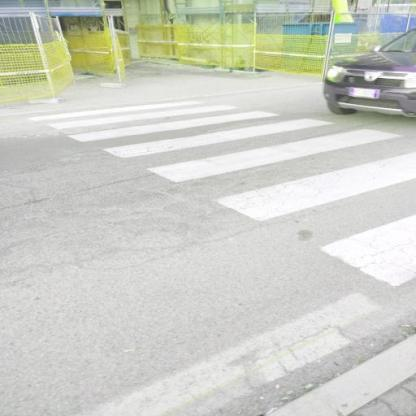crosswalk: (93, 114, 416, 185)
